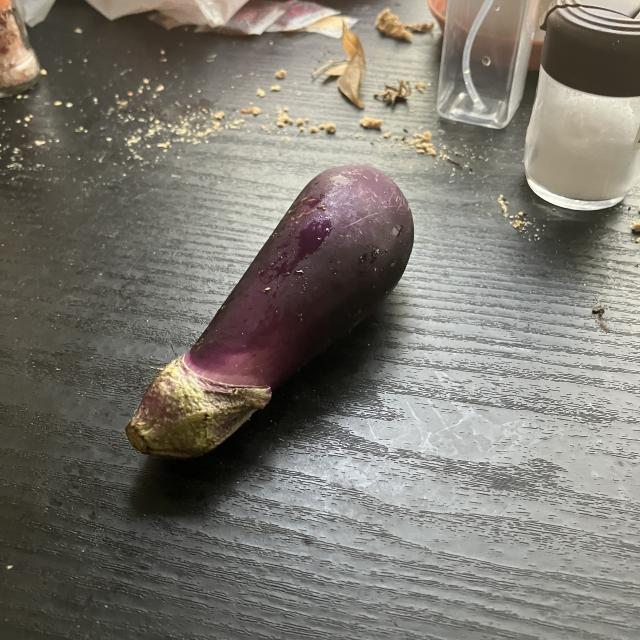eggplant: (125, 162, 418, 464)
